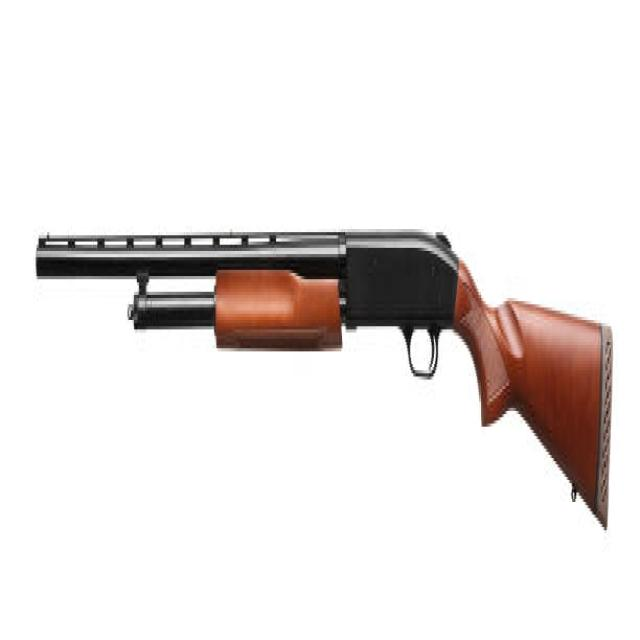rifle: (28, 209, 621, 532)
